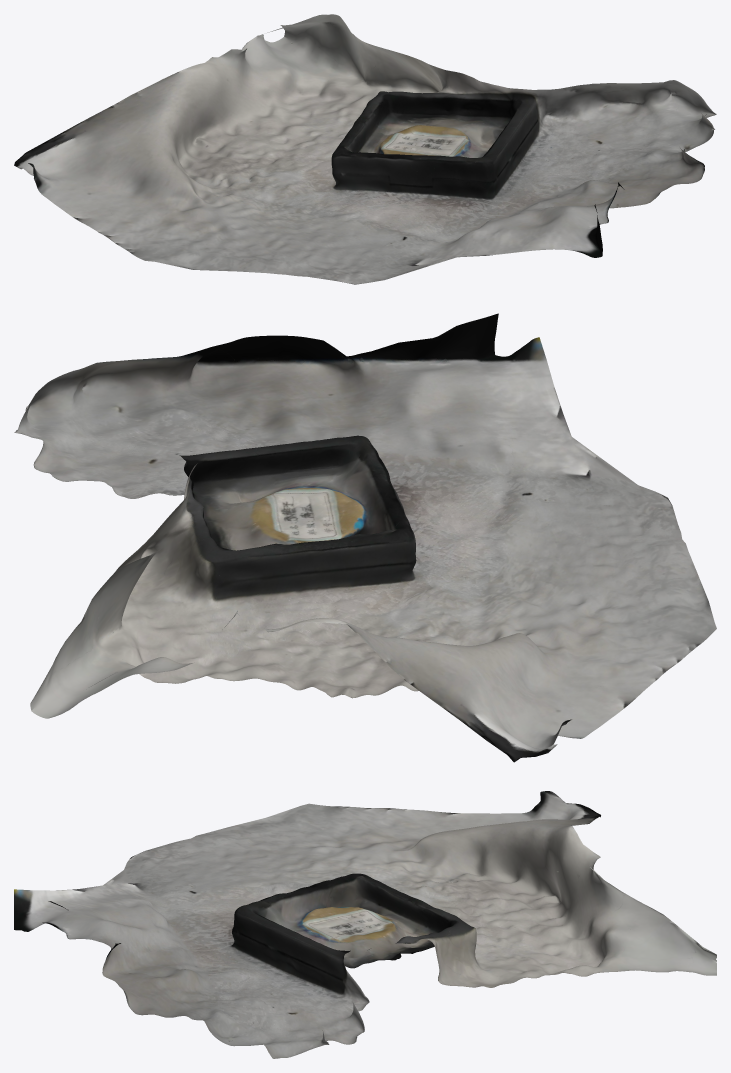
3 views of the same model, one above another, from view 1: azimuth 30°, elevation 25°; view 2: azimuth 150°, elevation 25°; view 3: azimuth 270°, elevation 25° (orthographic). The views are drawn at different scales.
Size of the model in its own units: 2.08 by 0.275 by 2.2.
Materials: 1 (1 with a texture image).
